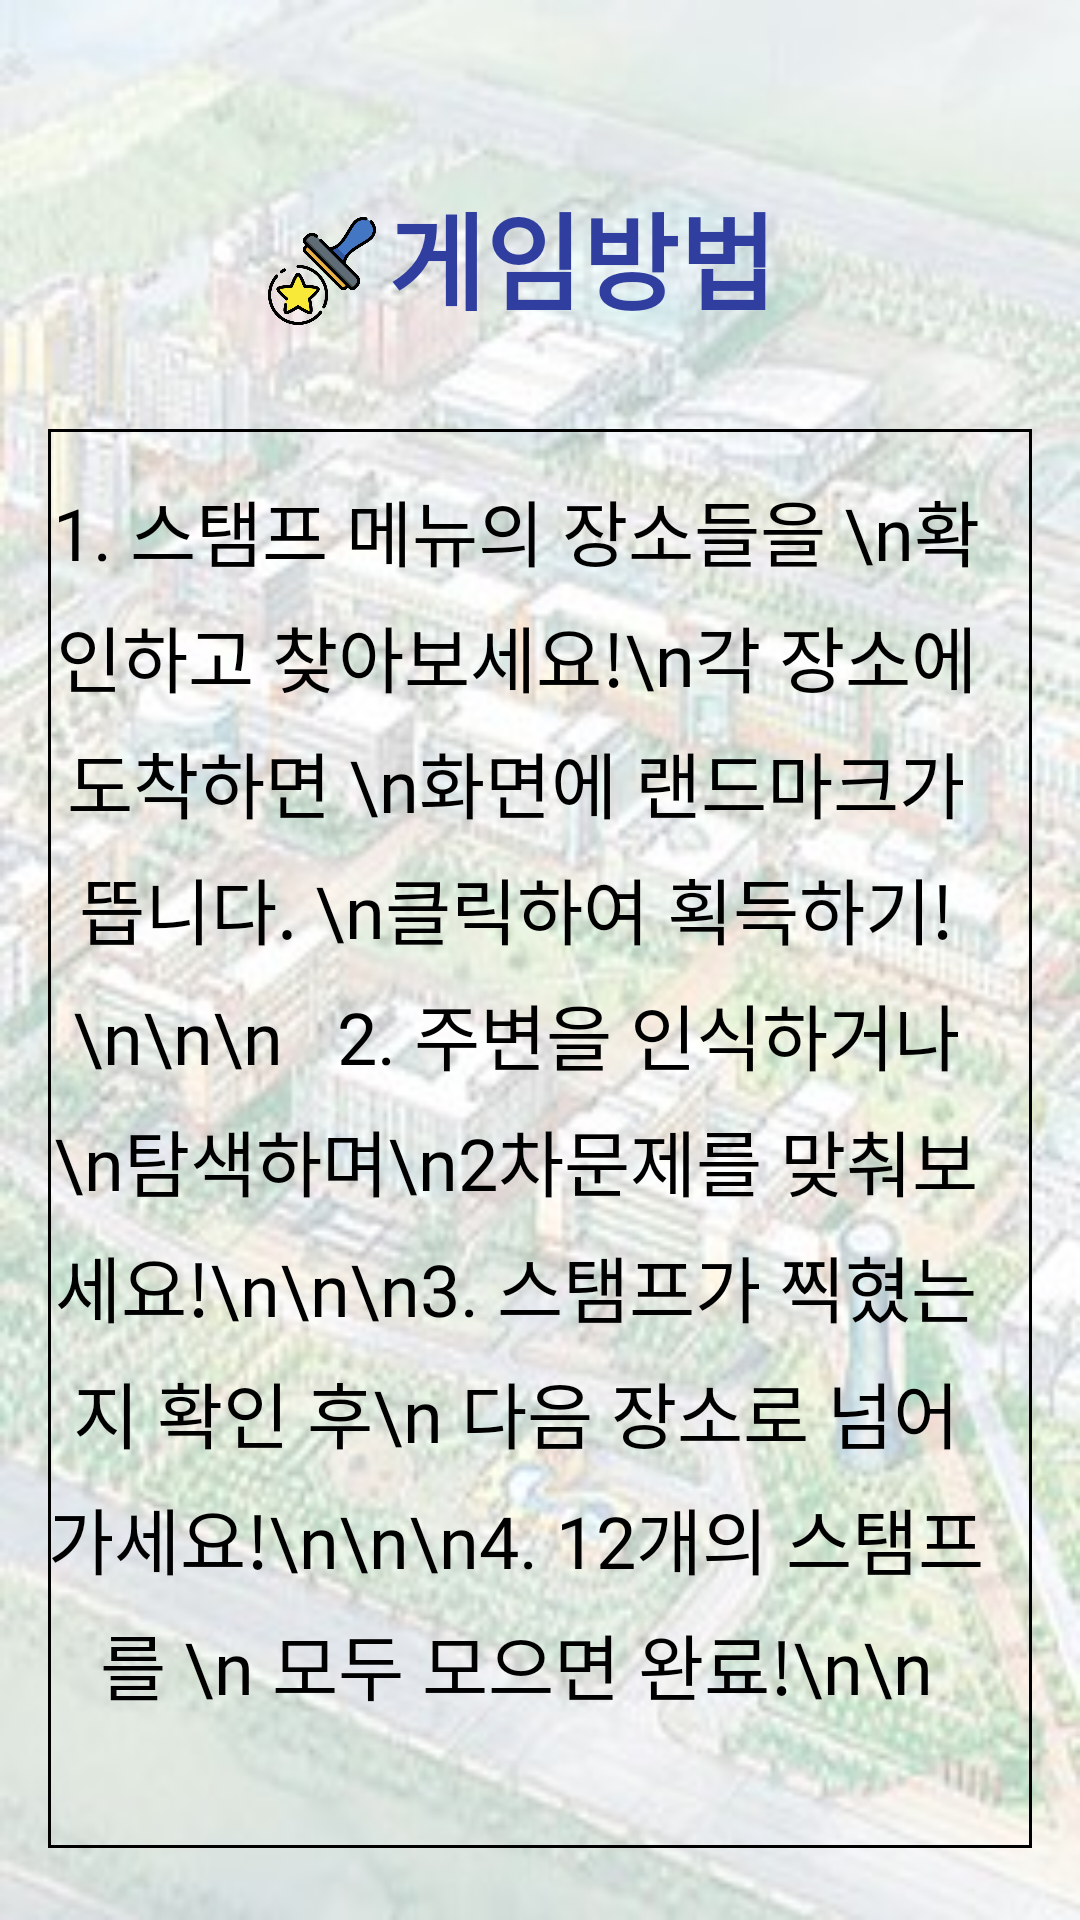

Icon bounding boxes for this 1080 × 1920 phone screenshot, format (x1, y1, x2, y2):
stamp: (256, 217, 388, 325)
